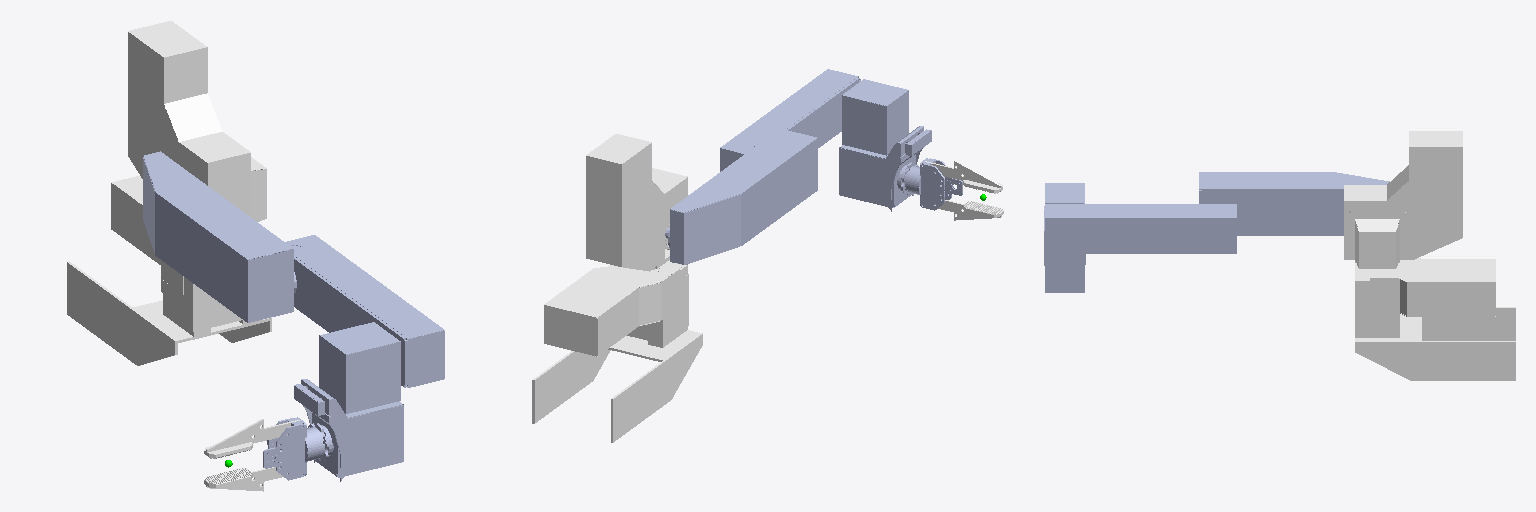
The robot description file, URDF, robot "skai_arm":
<?xml version="1.0" encoding="utf-8"?>
<!-- This URDF was automatically created by SolidWorks to URDF Exporter! Originally created by Stephen Brawner (brawner@gmail.com) 
     Commit Version: 1.6.0-4-g7f85cfe  Build Version: 1.6.7995.38578
     For more information, please see http://wiki.ros.org/sw_urdf_exporter -->
<robot
  name="skai_arm">
  <link
    name="BASE">
    <inertial>
      <origin
        xyz="0.0079534 0.010726 0.071969"
        rpy="0 0 0" />
      <mass
        value="3.1262" />
      <inertia
        ixx="0.044505"
        ixy="2.2803E-05"
        ixz="-0.00099255"
        iyy="0.030652"
        iyz="0.010312"
        izz="0.041054" />
    </inertial>
    <visual>
      <origin
        xyz="0 0 0"
        rpy="0 0 0" />
      <geometry>
        <mesh
          filename="package://arm_rviz/meshes/BASE.STL" />
      </geometry>
      <material
        name="">
        <color
          rgba="1 1 1 1" />
      </material>
    </visual>
    <collision>
      <origin
        xyz="0 0 0"
        rpy="0 0 0" />
      <geometry>
        <mesh
          filename="package://arm_rviz/meshes/BASE.STL" />
      </geometry>
    </collision>
  </link>
  <link
    name="J_1">
    <inertial>
      <origin
        xyz="0.0049849 0.10284 -0.012408"
        rpy="0 0 0" />
      <mass
        value="1.3715" />
      <inertia
        ixx="0.01019"
        ixy="3.5681E-05"
        ixz="-8.4694E-05"
        iyy="0.0051727"
        iyz="0.0018992"
        izz="0.007558" />
    </inertial>
    <visual>
      <origin
        xyz="0 0 0"
        rpy="0 0 0" />
      <geometry>
        <mesh
          filename="package://arm_rviz/meshes/J_1.STL" />
      </geometry>
      <material
        name="">
        <color
          rgba="1 1 1 1" />
      </material>
    </visual>
    <collision>
      <origin
        xyz="0 0 0"
        rpy="0 0 0" />
      <geometry>
        <mesh
          filename="package://arm_rviz/meshes/J_1.STL" />
      </geometry>
    </collision>
  </link>
  <joint
    name="ROT_1"
    type="revolute">
    <origin
      xyz="-0.004 -0.03 0.187"
      rpy="1.5708 0 0" />
    <parent
      link="BASE" />
    <child
      link="J_1" />
    <axis
      xyz="0 -1 0" />
    <limit
      lower="-1.57"
      upper="1.57"
      effort="10"
      velocity="1" />
  </joint>
  <link
    name="J_2">
    <inertial>
      <origin
        xyz="-0.044386 0.012377 0.28555"
        rpy="0 0 0" />
      <mass
        value="0.9257" />
      <inertia
        ixx="0.03108"
        ixy="8.8419E-05"
        ixz="0.0029235"
        iyy="0.031068"
        iyz="2.3458E-05"
        izz="0.0024953" />
    </inertial>
    <visual>
      <origin
        xyz="0 0 0"
        rpy="0 0 0" />
      <geometry>
        <mesh
          filename="package://arm_rviz/meshes/J_2.STL" />
      </geometry>
      <material
        name="">
        <color
          rgba="0.79216 0.81961 0.93333 1" />
      </material>
    </visual>
    <collision>
      <origin
        xyz="0 0 0"
        rpy="0 0 0" />
      <geometry>
        <mesh
          filename="package://arm_rviz/meshes/J_2.STL" />
      </geometry>
    </collision>
  </link>
  <joint
    name="PITCH_1"
    type="revolute">
    <origin
      xyz="-0.053 0.095 0"
      rpy="0 0 0" />
    <parent
      link="J_1" />
    <child
      link="J_2" />
    <axis
      xyz="1 0 0" />
    <limit
      lower="-3.14"
      upper="0.05"
      effort="10"
      velocity="1" />
  </joint>
  <link
    name="J_3">
    <inertial>
      <origin
        xyz="0.043959 0.0012504 0.33095"
        rpy="0 0 0" />
      <mass
        value="0.89411" />
      <inertia
        ixx="0.018389"
        ixy="-7.7356E-07"
        ixz="-0.00084534"
        iyy="0.018267"
        iyz="0.00014053"
        izz="0.0015401" />
    </inertial>
    <visual>
      <origin
        xyz="0 0 0"
        rpy="0 0 0" />
      <geometry>
        <mesh
          filename="package://arm_rviz/meshes/J_3.STL" />
      </geometry>
      <material
        name="">
        <color
          rgba="0.79216 0.81961 0.93333 1" />
      </material>
    </visual>
    <collision>
      <origin
        xyz="0 0 0"
        rpy="0 0 0" />
      <geometry>
        <mesh
          filename="package://arm_rviz/meshes/J_3.STL" />
      </geometry>
    </collision>
  </link>
  <joint
    name="PITCH_2"
    type="revolute">
    <origin
      xyz="-0.01975 0 0.429"
      rpy="0 0 0" />
    <parent
      link="J_2" />
    <child
      link="J_3" />
    <axis
      xyz="-1 0 0" />
    <limit
      lower="-2.7"
      upper="2.7"
      effort="10"
      velocity="1" />
  </joint>
  <link
    name="J_4">
    <inertial>
      <origin
        xyz="-0.07 -0.037074 -5.7068E-06"
        rpy="0 0 0" />
      <mass
        value="0.69469" />
      <inertia
        ixx="0.0011674"
        ixy="-0.00010459"
        ixz="2.4362E-07"
        iyy="0.0011193"
        iyz="3.3035E-07"
        izz="0.0012852" />
    </inertial>
    <visual>
      <origin
        xyz="0 0 0"
        rpy="0 0 0" />
      <geometry>
        <mesh
          filename="package://arm_rviz/meshes/J_4.STL" />
      </geometry>
      <material
        name="">
        <color
          rgba="0.79216 0.81961 0.93333 1" />
      </material>
    </visual>
    <collision>
      <origin
        xyz="0 0 0"
        rpy="0 0 0" />
      <geometry>
        <mesh
          filename="package://arm_rviz/meshes/J_4.STL" />
      </geometry>
    </collision>
  </link>
  <joint
    name="PITCH_3"
    type="revolute">
    <origin
      xyz="0.00825 0 0.41"
      rpy="0 0 0" />
    <parent
      link="J_3" />
    <child
      link="J_4" />
    <axis
      xyz="1 0 0" />
    <limit
      lower="-1.57"
      upper="1.57"
      effort="10"
      velocity="1" />
  </joint>
  <link
    name="J_5">
    <inertial>
      <origin
        xyz="-0.044658 -0.048391 5.6298E-05"
        rpy="0 0 0" />
      <mass
        value="1.0061" />
      <inertia
        ixx="0.0027189"
        ixy="0.00057915"
        ixz="2.5834E-06"
        iyy="0.002269"
        iyz="-2.933E-06"
        izz="0.0032126" />
    </inertial>
    <visual>
      <origin
        xyz="0 0 0"
        rpy="0 0 0" />
      <geometry>
        <mesh
          filename="package://arm_rviz/meshes/J_5.STL" />
      </geometry>
      <material
        name="">
        <color
          rgba="0.79216 0.81961 0.93333 1" />
      </material>
    </visual>
    <collision>
      <origin
        xyz="0 0 0"
        rpy="0 0 0" />
      <geometry>
        <mesh
          filename="package://arm_rviz/meshes/J_5.STL" />
      </geometry>
    </collision>
  </link>
  <joint
    name="ROT_2"
    type="revolute">
    <origin
      xyz="-0.075 -0.082 0"
      rpy="0 0 0" />
    <parent
      link="J_4" />
    <child
      link="J_5" />
    <axis
      xyz="0 1 0" />
    <limit
      lower="-1.57"
      upper="1.57"
      effort="10"
      velocity="1" />
  </joint>
  <link
    name="J_6">
    <inertial>
      <origin
        xyz="0.15572 0.00018089 0.0036627"
        rpy="0 0 0" />
      <mass
        value="0.19696" />
      <inertia
        ixx="0.00021541"
        ixy="8.9228E-09"
        ixz="4.5806E-06"
        iyy="0.0001125"
        iyz="5.9747E-07"
        izz="0.00022755" />
    </inertial>
    <visual>
      <origin
        xyz="0 0 0"
        rpy="0 0 0" />
      <geometry>
        <mesh
          filename="package://arm_rviz/meshes/J_6.STL" />
      </geometry>
      <material
        name="">
        <color
          rgba="0.79216 0.81961 0.93333 1" />
      </material>
    </visual>
    <collision>
      <origin
        xyz="0 0 0"
        rpy="0 0 0" />
      <geometry>
        <mesh
          filename="package://arm_rviz/meshes/J_6.STL" />
      </geometry>
    </collision>
  </link>
  <joint
    name="ROT_3"
    type="revolute">
    <origin
      xyz="-0.29365 -0.072 -0.0028845"
      rpy="0 0 0" />
    <parent
      link="J_5" />
    <child
      link="J_6" />
    <axis
      xyz="1 0 0" />
    <limit
      lower="-1.57"
      upper="1.57"
      effort="10"
      velocity="1" />
  </joint>
  <link
    name="F_1">
    <inertial>
      <origin
        xyz="0.030661 0.039212 -0.00014822"
        rpy="0 0 0" />
      <mass
        value="0.058475" />
      <inertia
        ixx="6.6803E-06"
        ixy="7.3482E-07"
        ixz="3.7258E-08"
        iyy="0.00010292"
        iyz="-2.8903E-10"
        izz="0.0001014" />
    </inertial>
    <visual>
      <origin
        xyz="0 0 0"
        rpy="0 0 0" />
      <geometry>
        <mesh
          filename="package://arm_rviz/meshes/F_1.STL" />
      </geometry>
      <material
        name="">
        <color
          rgba="0.99608 0.99608 1 1" />
      </material>
    </visual>
    <collision>
      <origin
        xyz="0 0 0"
        rpy="0 0 0" />
      <geometry>
        <mesh
          filename="package://arm_rviz/meshes/F_1.STL" />
      </geometry>
    </collision>
  </link>
  <joint
    name="FGR_1"
    type="prismatic">
    <origin
      xyz="0 0 0"
      rpy="0 0 0" />
    <parent
      link="J_6" />
    <child
      link="F_1" />
    <axis
      xyz="0 1 0" />
    <limit
      lower="-0.026"
      upper="0"
      effort="10"
      velocity="1" />
  </joint>
  <link
    name="F_2">
    <inertial>
      <origin
        xyz="0.030661 -0.039212 0.0001241"
        rpy="0 0 0" />
      <mass
        value="0.058475" />
      <inertia
        ixx="6.6803E-06"
        ixy="-7.3482E-07"
        ixz="3.7258E-08"
        iyy="0.00010292"
        iyz="2.8903E-10"
        izz="0.0001014" />
    </inertial>
    <visual>
      <origin
        xyz="0 0 0"
        rpy="0 0 0" />
      <geometry>
        <mesh
          filename="package://arm_rviz/meshes/F_2.STL" />
      </geometry>
      <material
        name="">
        <color
          rgba="0.99608 0.99608 1 1" />
      </material>
    </visual>
    <collision>
      <origin
        xyz="0 0 0"
        rpy="0 0 0" />
      <geometry>
        <mesh
          filename="package://arm_rviz/meshes/F_2.STL" />
      </geometry>
    </collision>
  </link>
  <joint
    name="FGR_2"
    type="prismatic">
    <origin
      xyz="0 0 0"
      rpy="0 0 0" />
    <parent
      link="J_6" />
    <child
      link="F_2" />
    <axis
      xyz="0 1 0" />
    <limit
      lower="0"
      upper="0.026"
      effort="10"
      velocity="1" />
  </joint>
  <link name="link_tcp">
  <visual>
    <geometry>
      <sphere radius="0.008"/>
    </geometry>
    <material name="green">
      <color rgba="0 1 0 1"/>
    </material>
  </visual>
</link>

<joint name="tcp_joint" type="fixed">
  <parent link="J_6"/>
  <child link="link_tcp"/>
  <origin xyz="0 0 0" rpy="0 0 0"/>
</joint>
</robot>

--- Facts derived from the render (not from the file) ---
The picture shows the robot from 3 angles, left to right: view 1: azimuth 30°, elevation 25°; view 2: azimuth 150°, elevation 25°; view 3: azimuth 270°, elevation 25°; orthographic projection.
Model skai_arm with 10 links and 9 joints (6 revolute, 2 prismatic, 1 fixed), rooted at BASE, posed all joints at 0.
Links seen in each view (by area): view 1: J_2, J_1, BASE, J_3, J_4, J_5, J_6, F_1, F_2; view 2: BASE, J_2, J_1, J_3, J_5, J_4, J_6, F_1, F_2; view 3: BASE, J_1, J_3, J_2, J_5, J_4.
Link boxes in pixels (x1,y1,x2,y2): J_2: (143,151,296,322); J_1: (128,21,266,221); BASE: (67,176,271,365); J_3: (285,235,444,387); J_4: (319,322,400,413); J_5: (294,379,403,481); J_6: (263,417,328,480); F_1: (204,419,299,458); F_2: (204,467,287,491); BASE: (532,260,702,442); J_2: (665,129,817,264); J_1: (586,134,687,271); J_3: (720,69,860,171); J_5: (839,126,931,211); J_4: (842,79,908,155); J_6: (901,158,962,210); F_1: (925,160,1002,193); F_2: (935,200,1003,220); BASE: (1355,258,1515,380); J_1: (1344,131,1462,268); J_3: (1045,204,1236,253); J_2: (1199,172,1389,235); J_5: (1044,206,1085,292); J_4: (1045,183,1084,203).
Bounding box of the posed robot: 0.5982 × 1.27 × 0.6647 m (x, y, z).
9 mesh visuals loaded from 9 distinct referenced files (9 binary STL).
